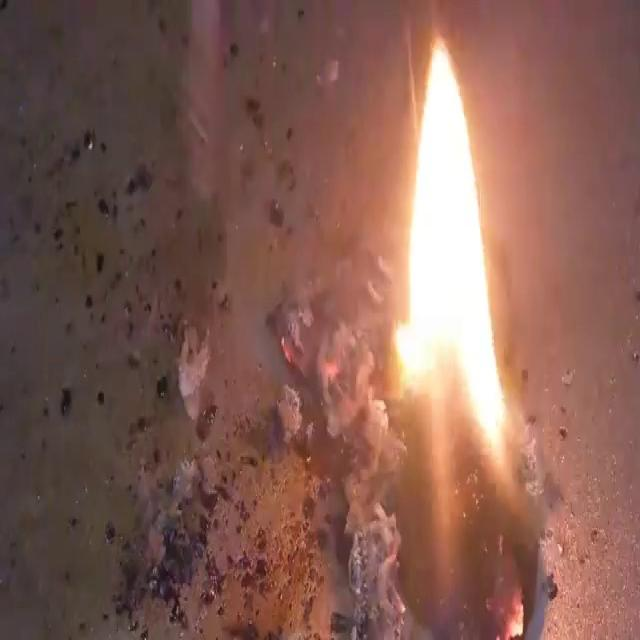Fire: (5, 4, 634, 636), (390, 34, 513, 462)
